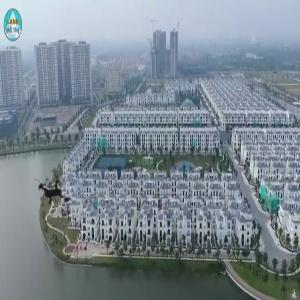drone: (23, 159, 90, 226)
